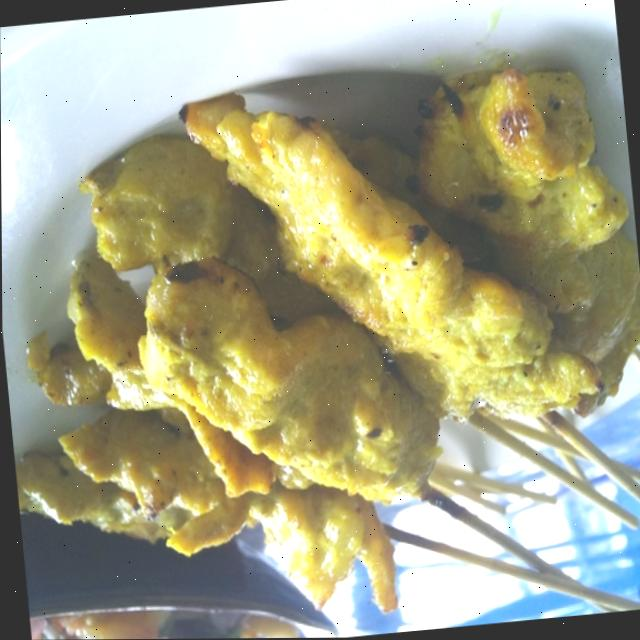牛肉菜式: (0, 10, 640, 630)
